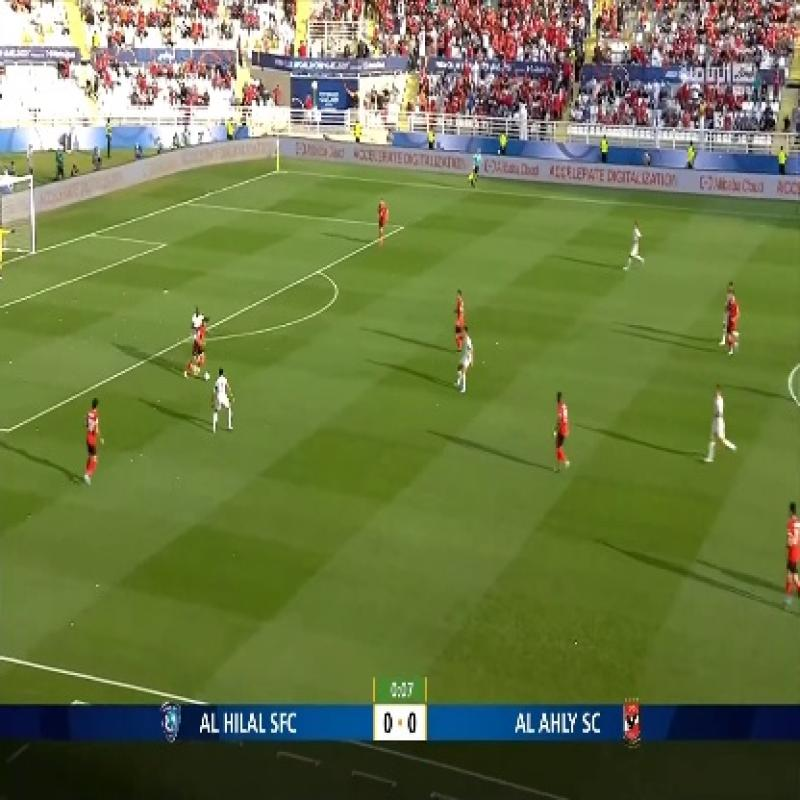1: (271, 165, 283, 173)
10: (314, 263, 324, 277)
12: (2, 418, 16, 440)
2: (182, 196, 190, 206)
3: (84, 226, 97, 240)
7: (158, 237, 168, 250)
9: (396, 218, 406, 231)
c: (781, 358, 800, 400)
